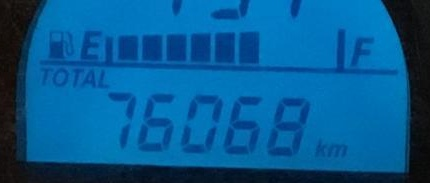0: (177, 91, 221, 155)
6: (225, 92, 261, 156), (138, 91, 173, 151)
7: (104, 87, 137, 148)
8: (265, 88, 307, 158)
X: (348, 34, 377, 66), (79, 25, 102, 62), (313, 136, 331, 160), (328, 139, 346, 161), (37, 62, 51, 87), (52, 66, 66, 87), (70, 65, 83, 87), (97, 68, 110, 89), (83, 68, 94, 90)
